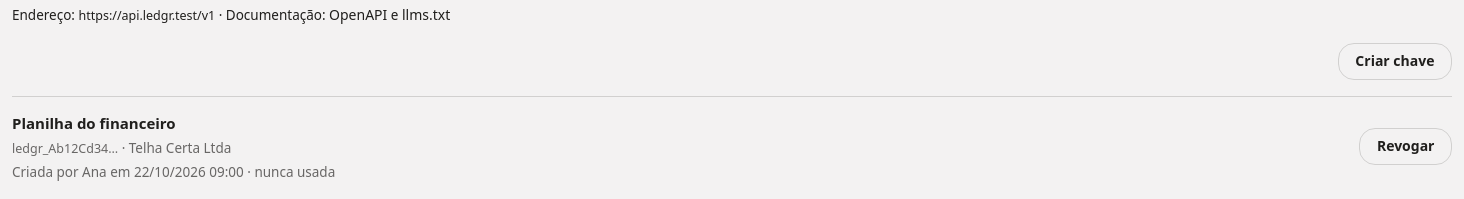
PainelDeChavesApi › revoga depois de confirmar, e a chave fica na lista como revogada
Click the button "Revogar": (1406, 147) [1359,128,1452,165]
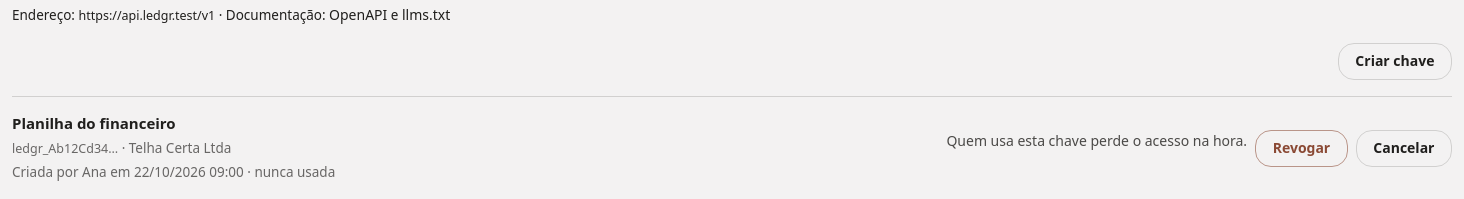
Expected: the element named "Revogar Planilha do financeiro" shows "perde o acesso na hora", [946,131,1247,150]
Click the button "Revogar": (1301, 149) [1255,130,1348,167]
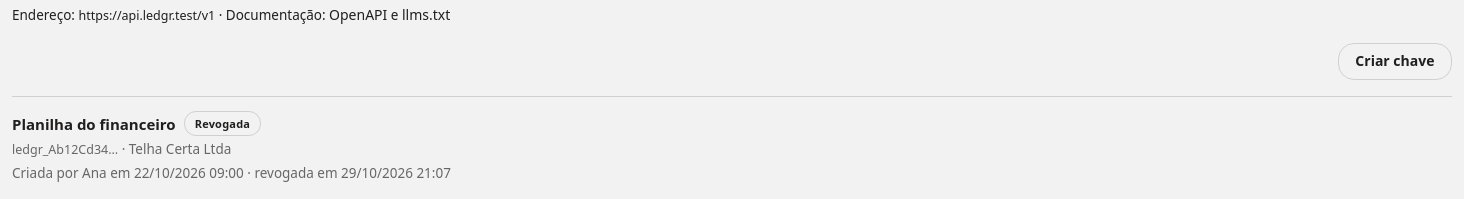
Expected: the text "Revogada" is shown, [184,111,261,136]
Expected: the button "Revogar" is gone
